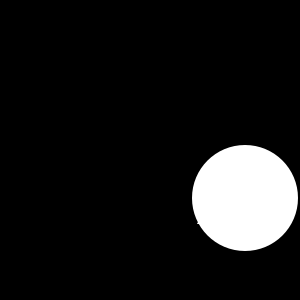rectangle: (192, 145, 298, 251)
triangle: (197, 167, 254, 224)
